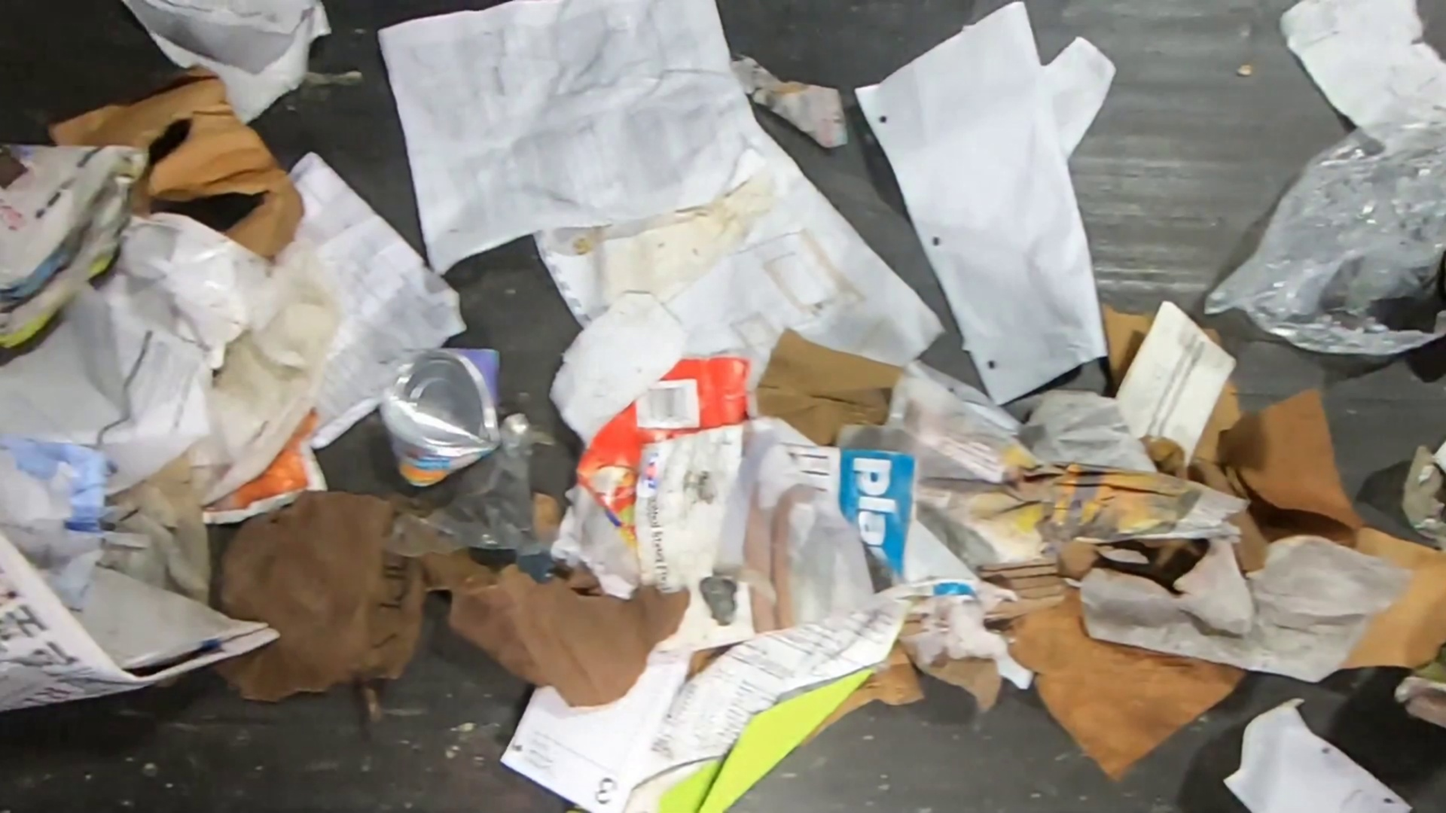cardboard: (1139, 378, 1446, 682), (976, 542, 1250, 782), (49, 64, 304, 262), (574, 355, 753, 552), (756, 326, 907, 445), (798, 638, 924, 748), (921, 656, 1003, 718), (1101, 303, 1154, 397), (1401, 439, 1446, 547)
metal: (375, 346, 504, 488)
plastic: (1203, 59, 1446, 355), (385, 413, 565, 580), (1028, 391, 1151, 472)
